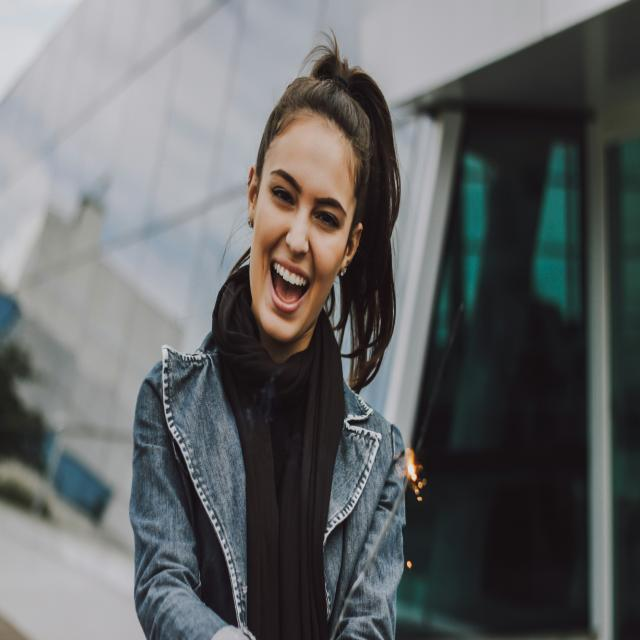human: (121, 50, 425, 640)
